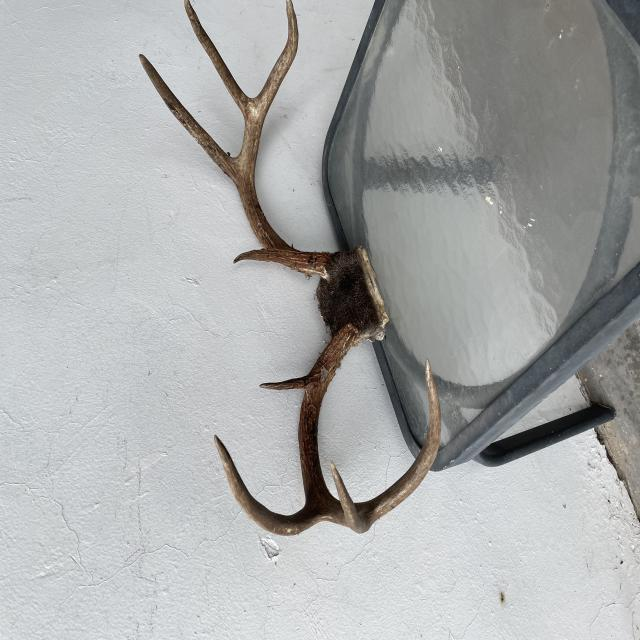L-F: (271, 315, 480, 443)
L-G1: (280, 310, 294, 386)
L-G2: (342, 185, 440, 318)
R-G1: (187, 345, 199, 412)
R-G2: (78, 285, 154, 432)
R-G3: (392, 245, 480, 338), (79, 441, 134, 497)
